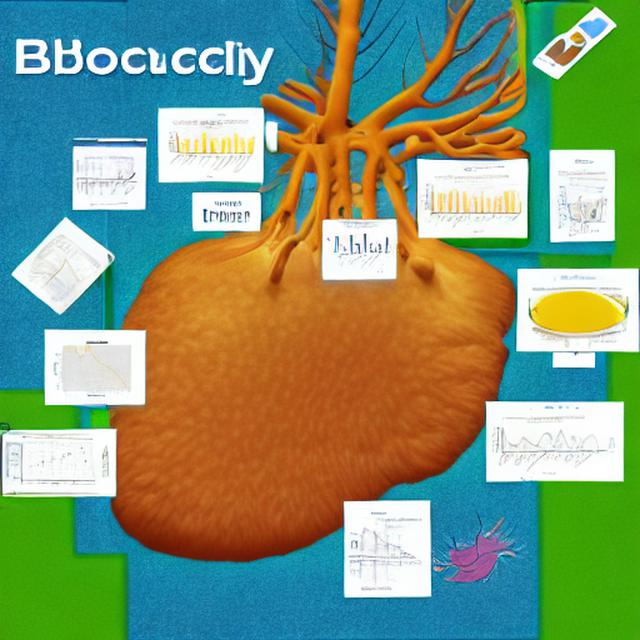Graph: (490, 414, 597, 477), (420, 173, 524, 233), (51, 334, 140, 401), (163, 120, 258, 179), (2, 435, 98, 490), (322, 226, 391, 258)
